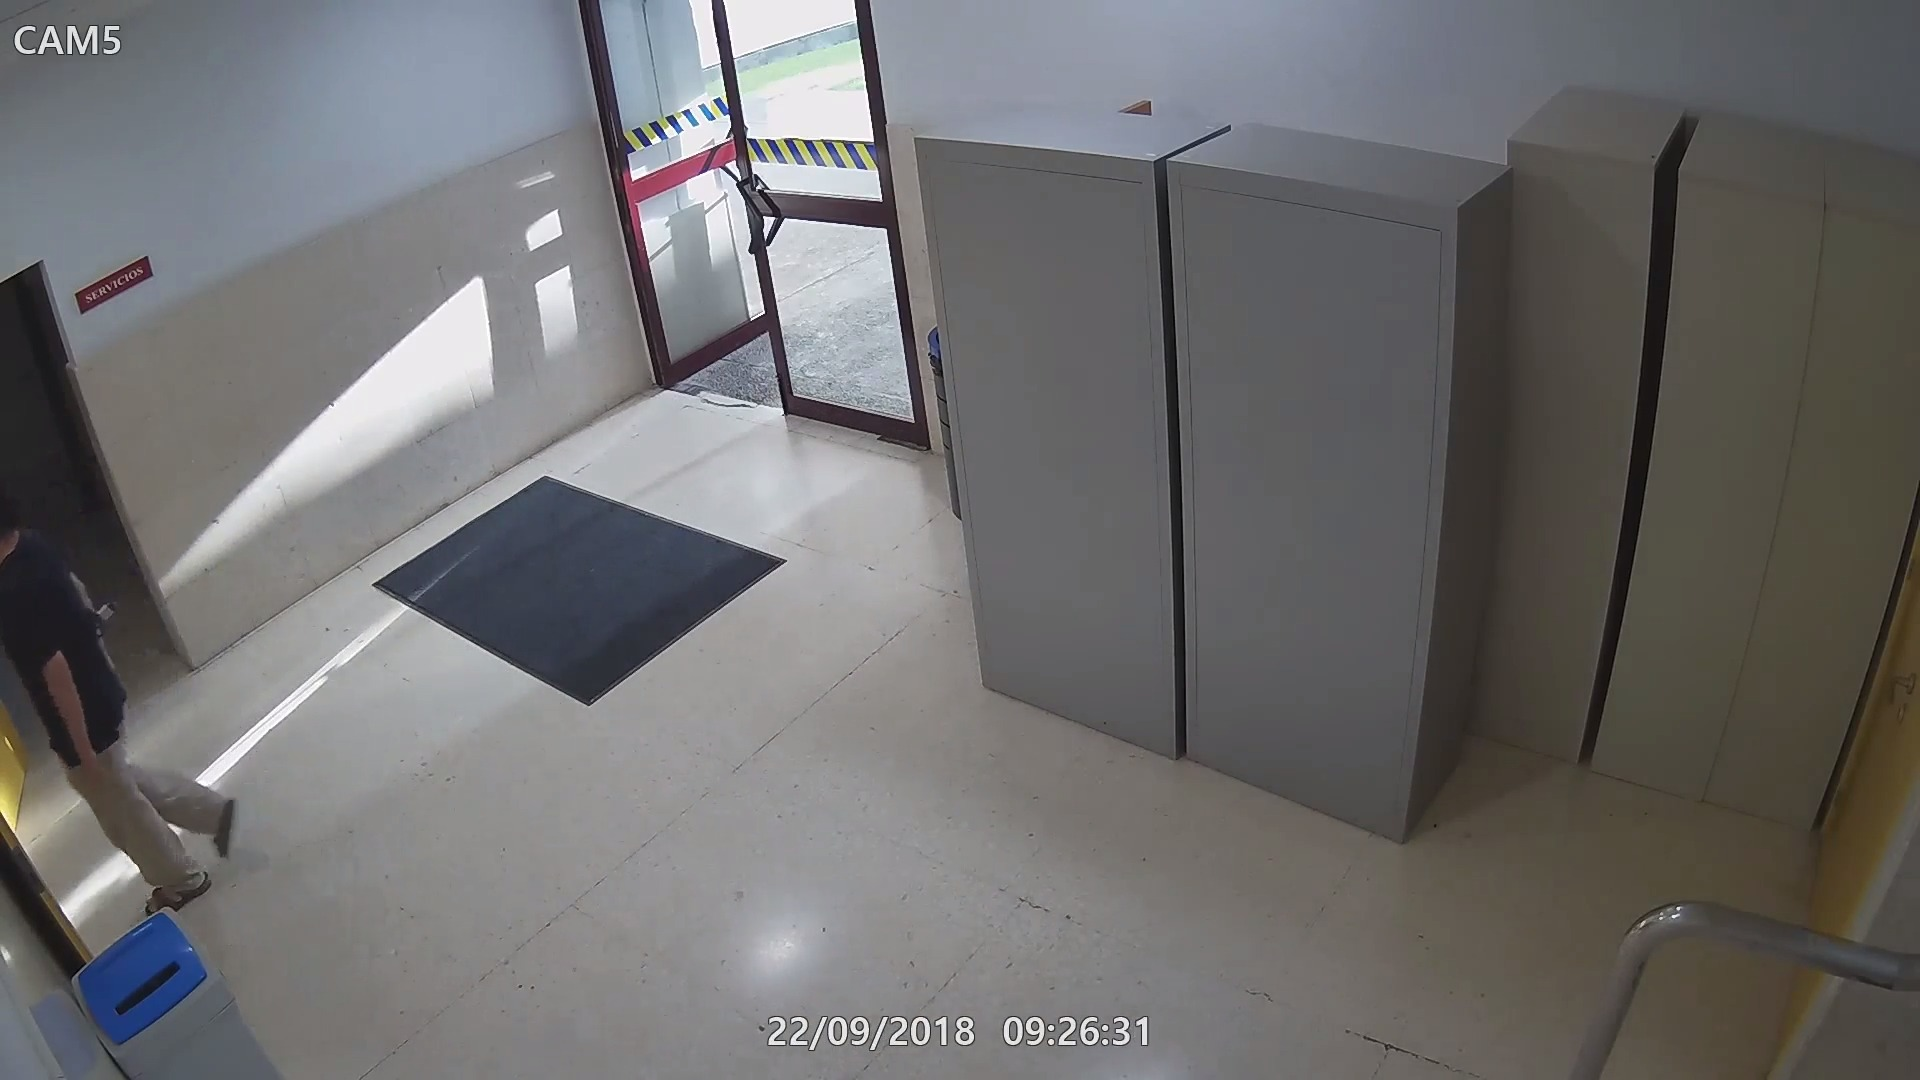Short_rifle: (73, 593, 112, 655)
